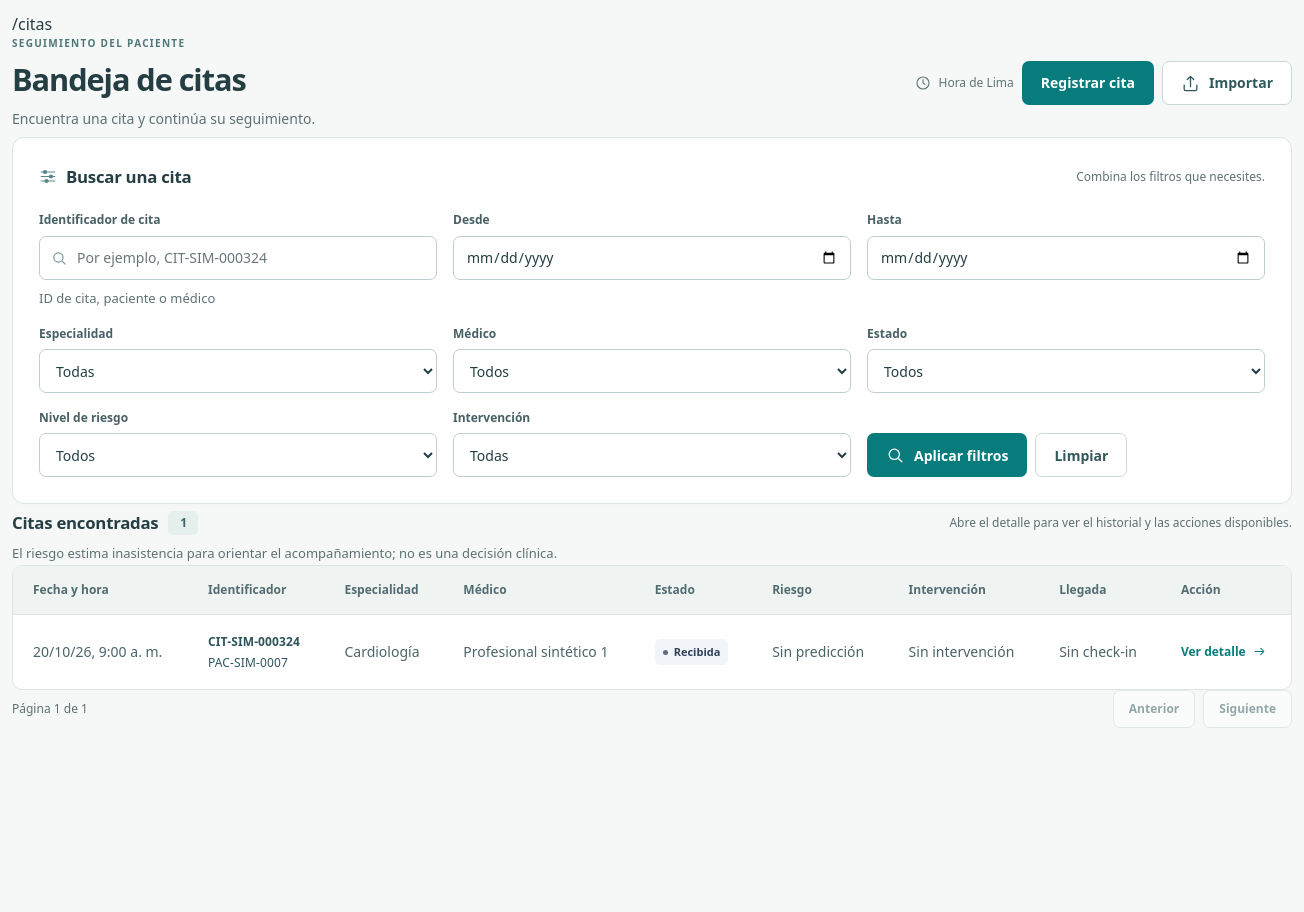
Bandeja completa M02-V01 (RF-015, RF-016, RF-017, RF-084) › limpia un borrador sin aplicar cuando la URL ya está sin filtros (RF-015, RF-016)
Expected: the text "CIT-SIM-000324" is shown, 208,633 -> 300,650
Expected: the button "Aplicar filtros" is enabled, 867,433 -> 1028,477
Step 1. Type "PAC-SIM" into the field labelled "Identificador de cita" → [238, 258], box 39,236 -> 437,280
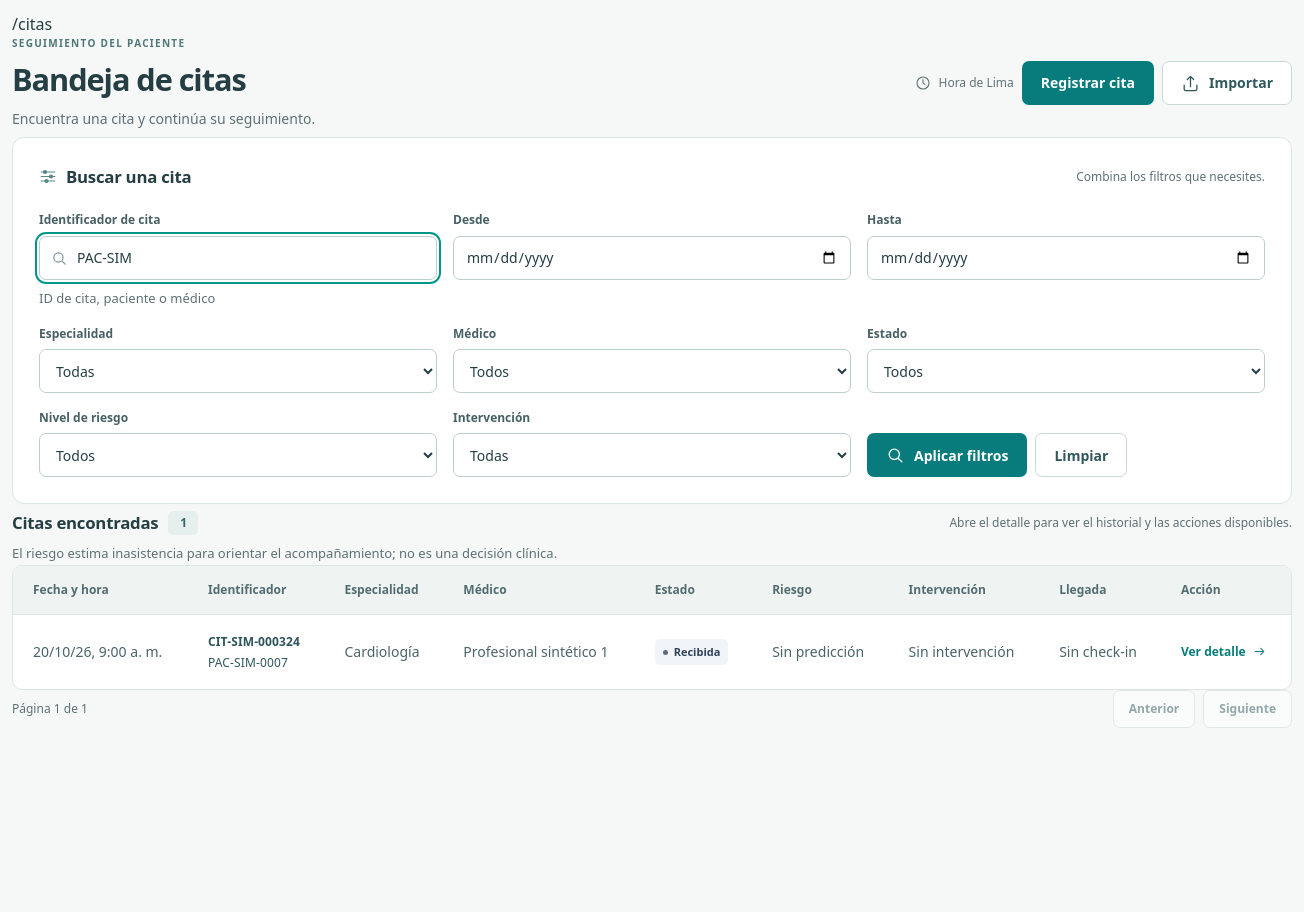
Step 2. Select "Profesional sintético 2" in the dropdown labelled "Médico" → [652, 371], box 453,349 -> 851,393
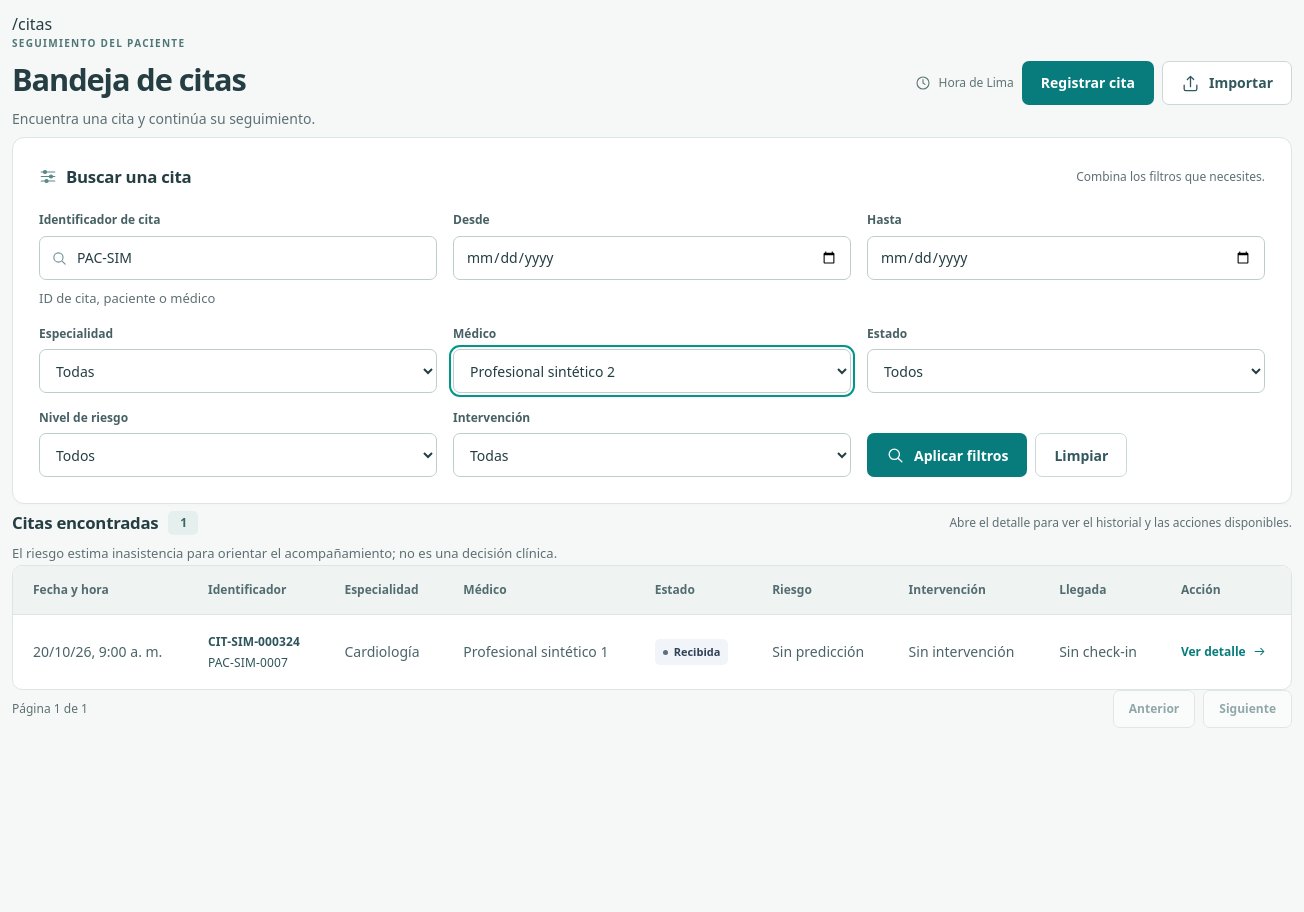
Step 3. Select "Alto" in the dropdown labelled "Nivel de riesgo" → [238, 455], box 39,433 -> 437,477
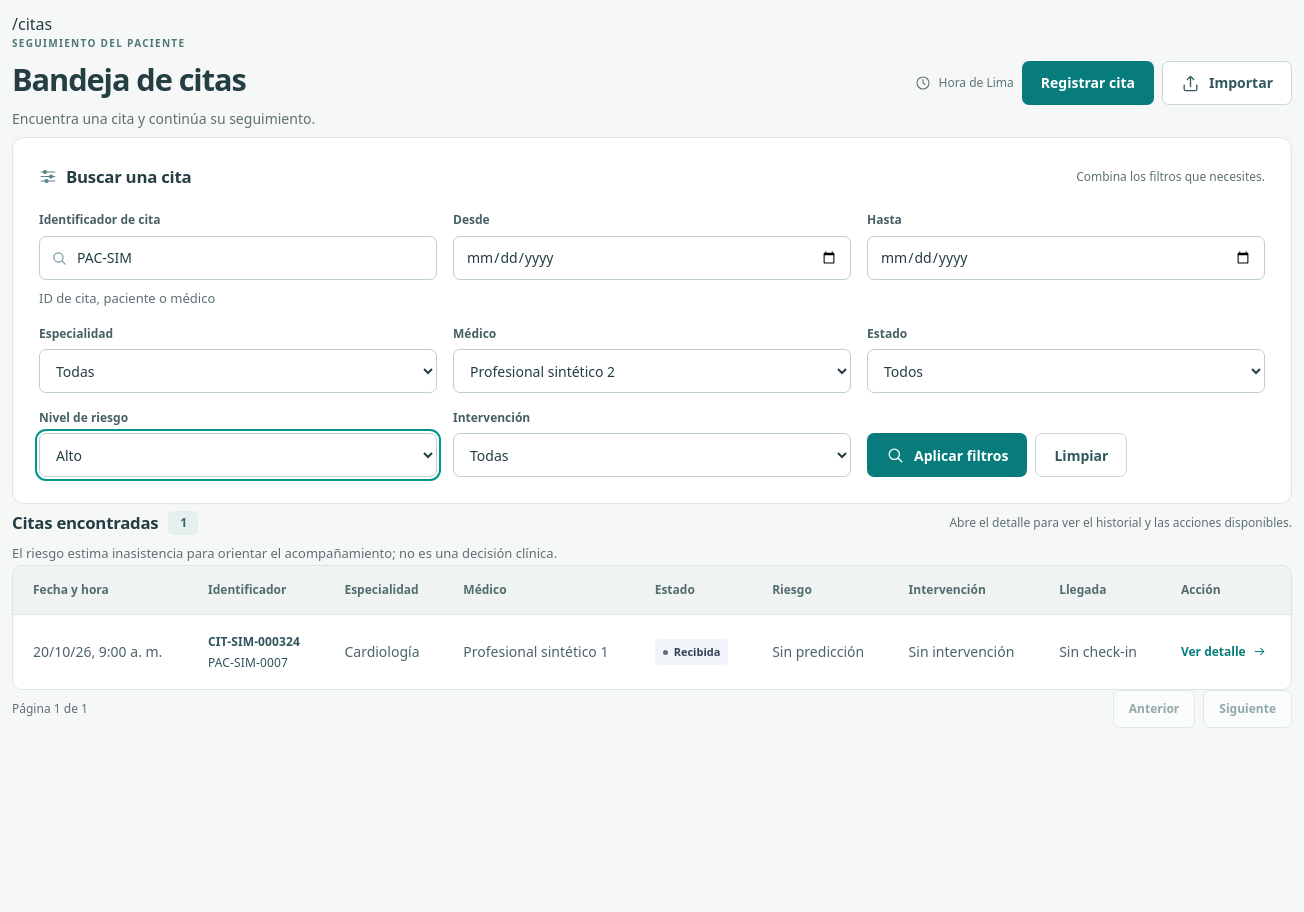
Step 4. Select "Sin intervención" in the dropdown labelled "Intervención" → [652, 455], box 453,433 -> 851,477
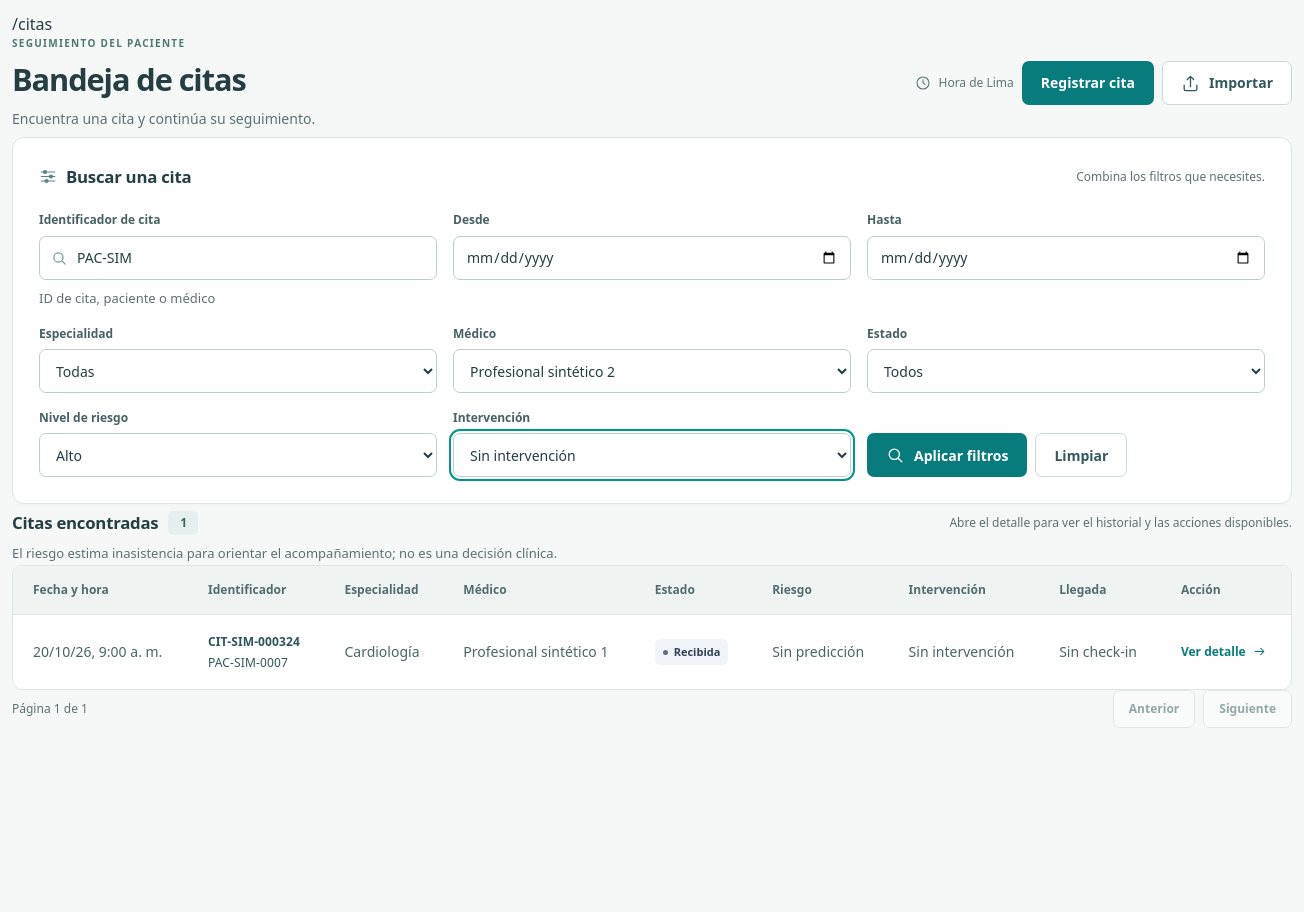
Step 5. Click the button "Limpiar" → [1081, 455], box 1036,433 -> 1127,477
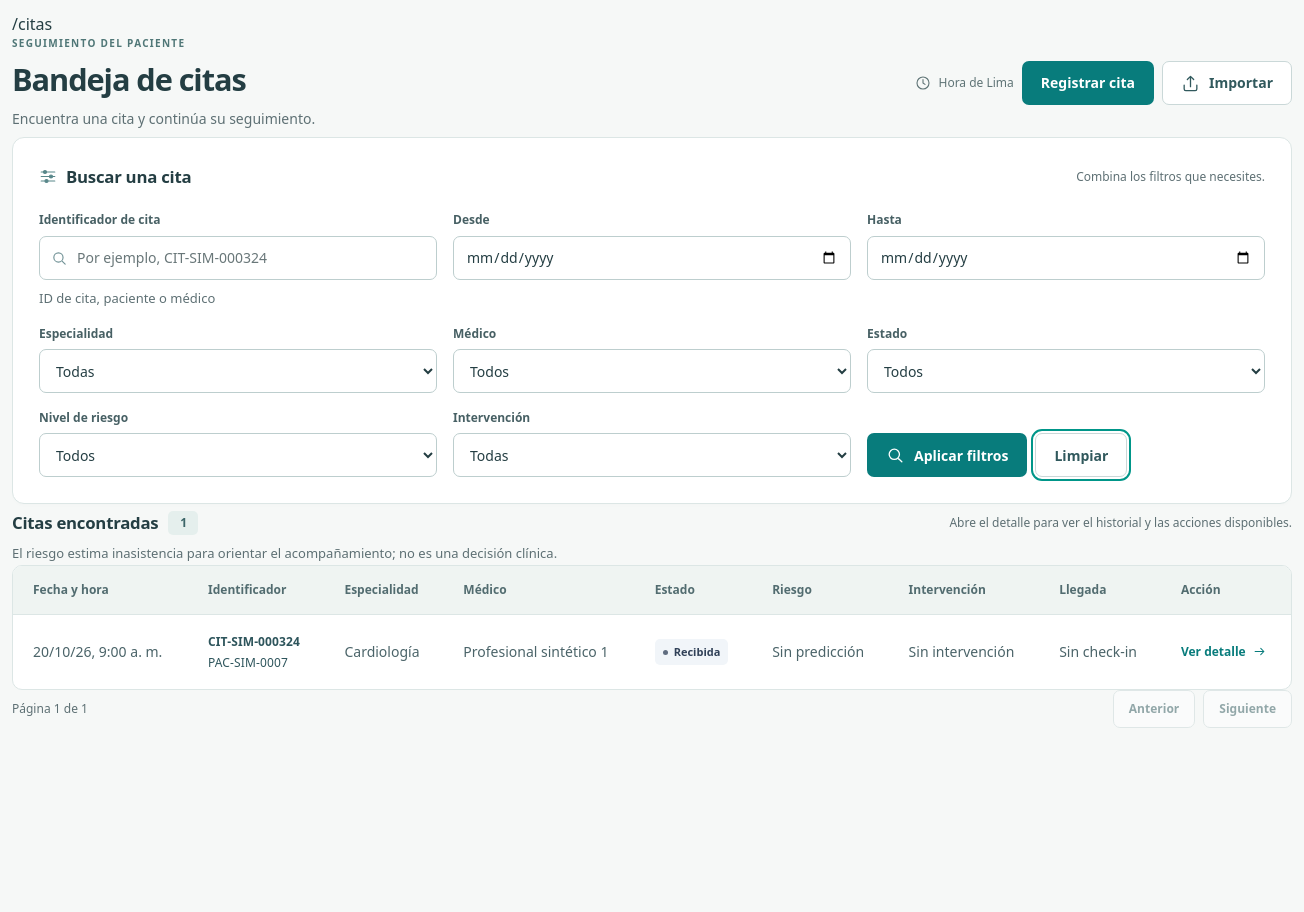
Expected: the text named "URL actual" reads "/citas", 12,13 -> 52,35
Now the field labelled "Identificador de cita" is empty, box 39,236 -> 437,280
